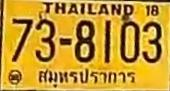0: (119, 20, 139, 62)
1: (103, 20, 110, 62)
3: (34, 18, 54, 61), (141, 20, 161, 62)
7: (11, 17, 32, 61)
8: (74, 19, 94, 61)
SPK: (34, 66, 140, 85)
